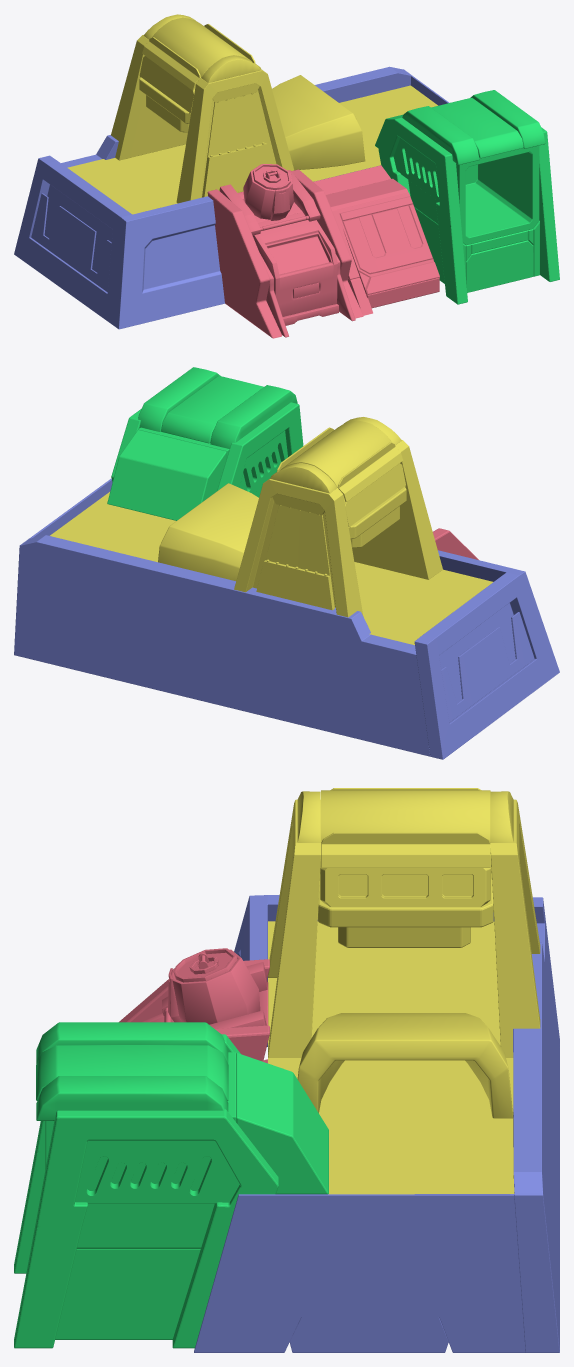
File: BMS_Smelter_MSH.fbx
3 renders of one model, top to bottom at view 1: azimuth 30°, elevation 25°; view 2: azimuth 150°, elevation 25°; view 3: azimuth 270°, elevation 25°, orthographic. The views are drawn at different scales.
Parts seen in each view (by area): view 1: Wall_02, Smelter_Arms, Smelter_Belt, Trash_Bin_Box, CU_Screen, Storage_Box_1_Box, Storage_Box_1_Support_1, Storage_Box_1_Top, Smelter_Bellow, CU_Walls_1, Smelter_Door, Storage_Box_1_Bottom (+14 smaller); view 2: Wall_01, Wall_02, Smelter_Arms, Smelter_Belt, Storage_Box_1_Top, Storage_Box_Back_Panel, Smelter_Bellow, Smelter_Door, Storage_Box_1_Support_1, Smelter_Top_1, Smetler_Top_2, Smelter_Heater_1 (+6 smaller); view 3: Wall_01, Smelter_Belt, Storage_Box_1_Support_1, Smelter_Arms, Storage_Box_1_Top, Smelter_Bellow, Storage_Box_1_Bottom, Storage_Box_Back_Panel, Storage_Box_1_Panel, Storage_Box_1_Box, Smelter_Top_1, Smelter_Heater_1 (+10 smaller).
Part boxes in pixels (bbox=[...]): Wall_02: bbox=[14, 155, 224, 329]; Smelter_Arms: bbox=[111, 35, 294, 203]; Smelter_Belt: bbox=[67, 85, 437, 214]; Trash_Bin_Box: bbox=[337, 192, 439, 308]; CU_Screen: bbox=[237, 191, 355, 337]; Storage_Box_1_Box: bbox=[408, 145, 539, 245]; Storage_Box_1_Support_1: bbox=[378, 117, 559, 304]; Storage_Box_1_Top: bbox=[402, 90, 545, 164]; Smelter_Bellow: bbox=[272, 75, 365, 170]; CU_Walls_1: bbox=[207, 189, 281, 338]; Smelter_Door: bbox=[202, 94, 271, 197]; Storage_Box_1_Bottom: bbox=[415, 208, 539, 292]; Wall_01: bbox=[14, 478, 430, 756]; Wall_02: bbox=[414, 550, 559, 759]; Smelter_Arms: bbox=[234, 440, 442, 617]; Smelter_Belt: bbox=[50, 492, 492, 645]; Storage_Box_1_Top: bbox=[138, 367, 297, 448]; Storage_Box_Back_Panel: bbox=[107, 430, 226, 520]; Smelter_Bellow: bbox=[158, 483, 258, 580]; Smelter_Door: bbox=[256, 505, 334, 610]; Storage_Box_1_Support_1: bbox=[111, 402, 303, 490]; Smelter_Top_1: bbox=[281, 420, 392, 487]; Smetler_Top_2: bbox=[270, 427, 403, 501]; Smelter_Heater_1: bbox=[343, 463, 405, 527]; Wall_01: bbox=[194, 923, 559, 1352]; Smelter_Belt: bbox=[268, 921, 514, 1194]; Storage_Box_1_Support_1: bbox=[14, 1034, 278, 1348]; Smelter_Arms: bbox=[268, 799, 540, 1057]; Storage_Box_1_Top: bbox=[36, 1022, 228, 1120]; Smelter_Bellow: bbox=[297, 1013, 513, 1118]; Storage_Box_1_Bottom: bbox=[55, 1249, 200, 1339]; Storage_Box_Back_Panel: bbox=[236, 1053, 328, 1194]; Storage_Box_1_Panel: bbox=[75, 1140, 239, 1203]; Storage_Box_1_Box: bbox=[45, 1052, 236, 1248]; Smelter_Top_1: bbox=[321, 790, 490, 842]; Smelter_Heater_1: bbox=[320, 854, 491, 906].
Size of the model in its own units: 520 by 279 by 384.
